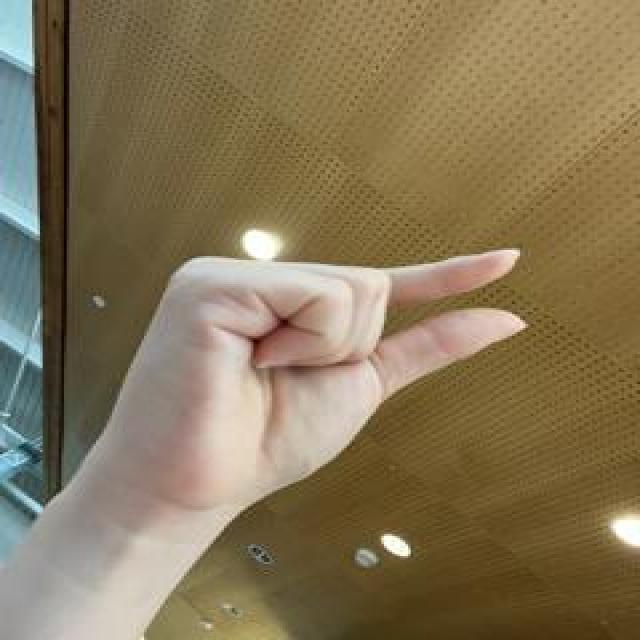G: (111, 240, 540, 504)
